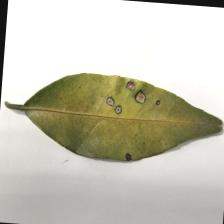canker: (91, 75, 158, 126)
